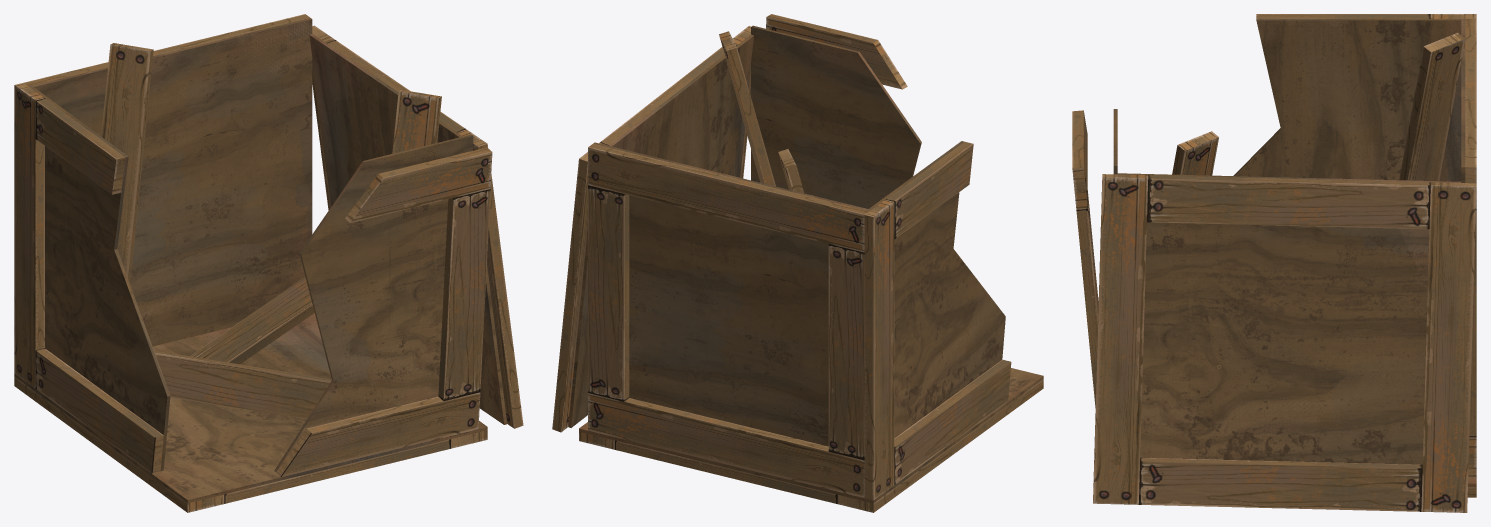
Rendered from crate04_B.fbx.
3 views of the same model, side by side, from view 1: azimuth 30°, elevation 25°; view 2: azimuth 150°, elevation 25°; view 3: azimuth 270°, elevation 25° (orthographic). The views are drawn at different scales.
Parts seen in each view (by area): view 1: crate04_B; view 2: crate04_B; view 3: crate04_B.
Part boxes in pixels (x1=…): crate04_B: x1=14, y1=14, x2=523, y2=512; crate04_B: x1=552, y1=14, x2=1043, y2=512; crate04_B: x1=1072, y1=14, x2=1476, y2=512.
Bounding box in the file's own units: 108 × 102 × 106.
